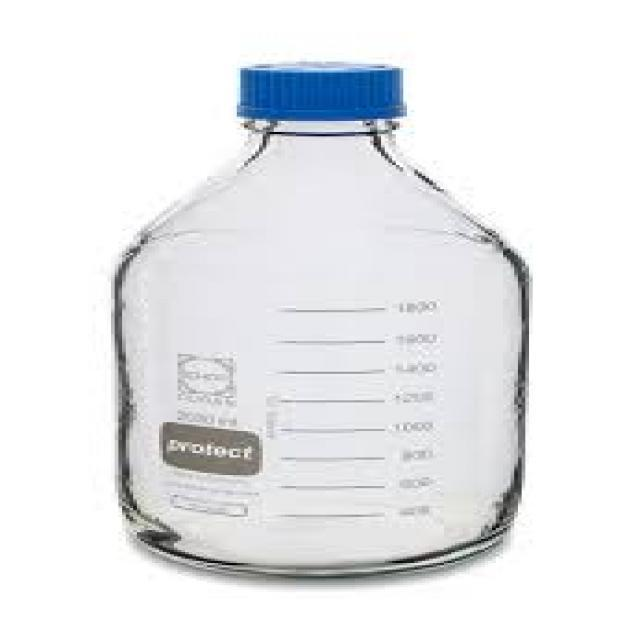Plastic: (114, 61, 534, 576)
